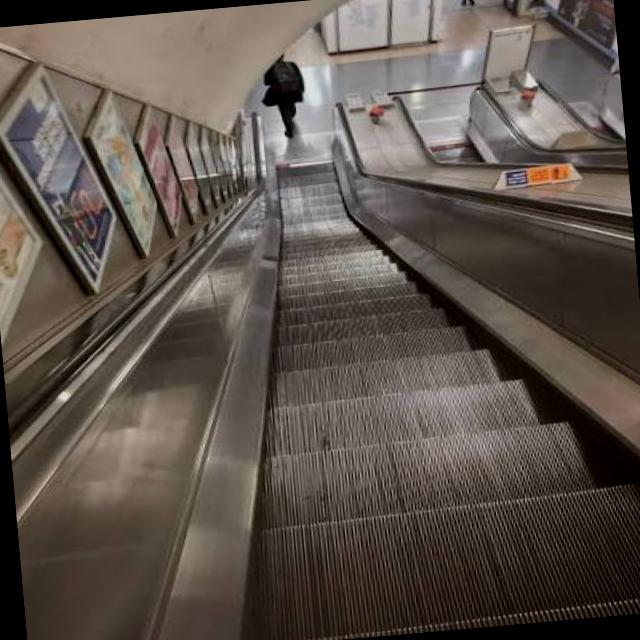escalator: (11, 94, 640, 640)
